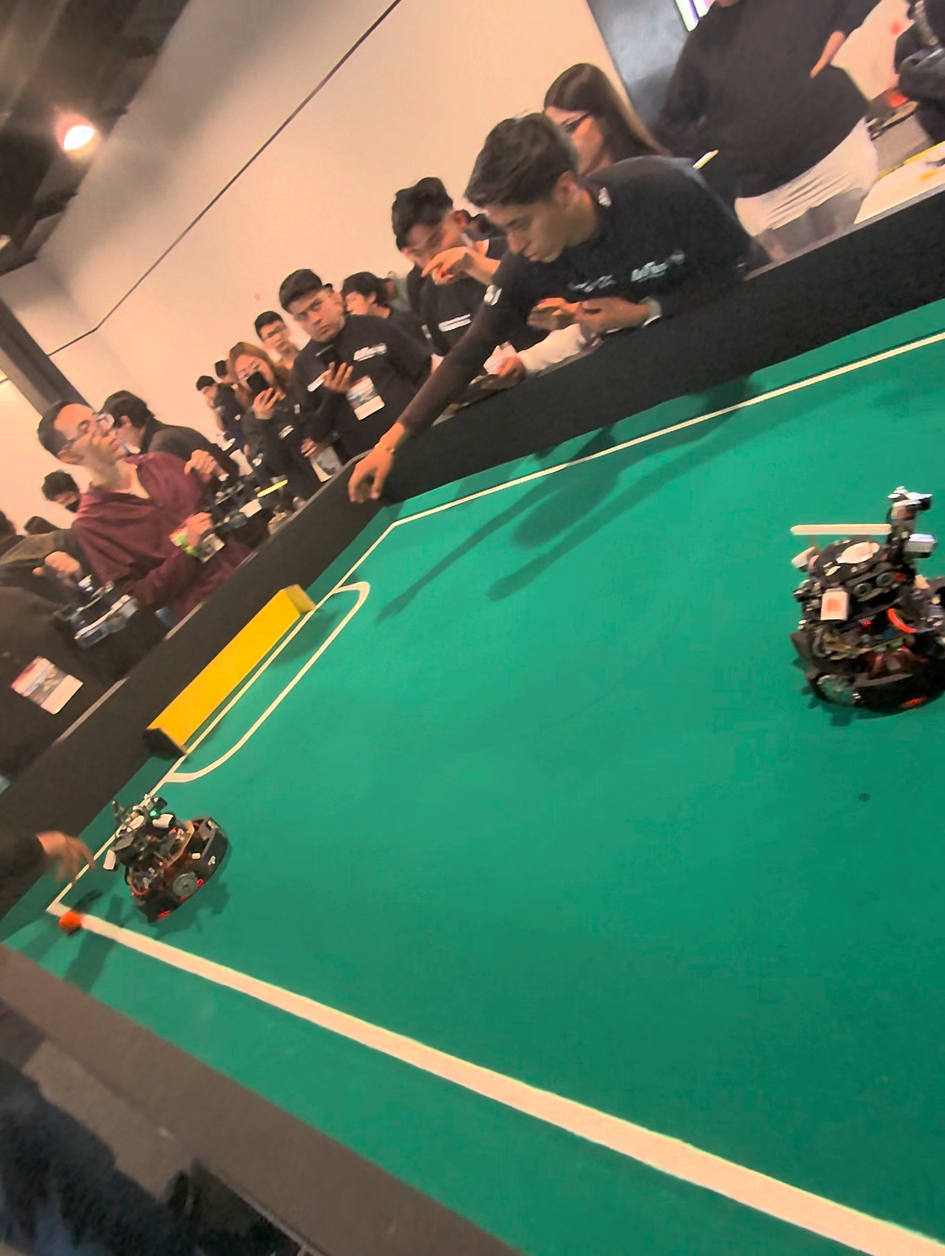Robot: (759, 490, 945, 735), (99, 795, 244, 921)
pelota: (58, 904, 83, 935)
